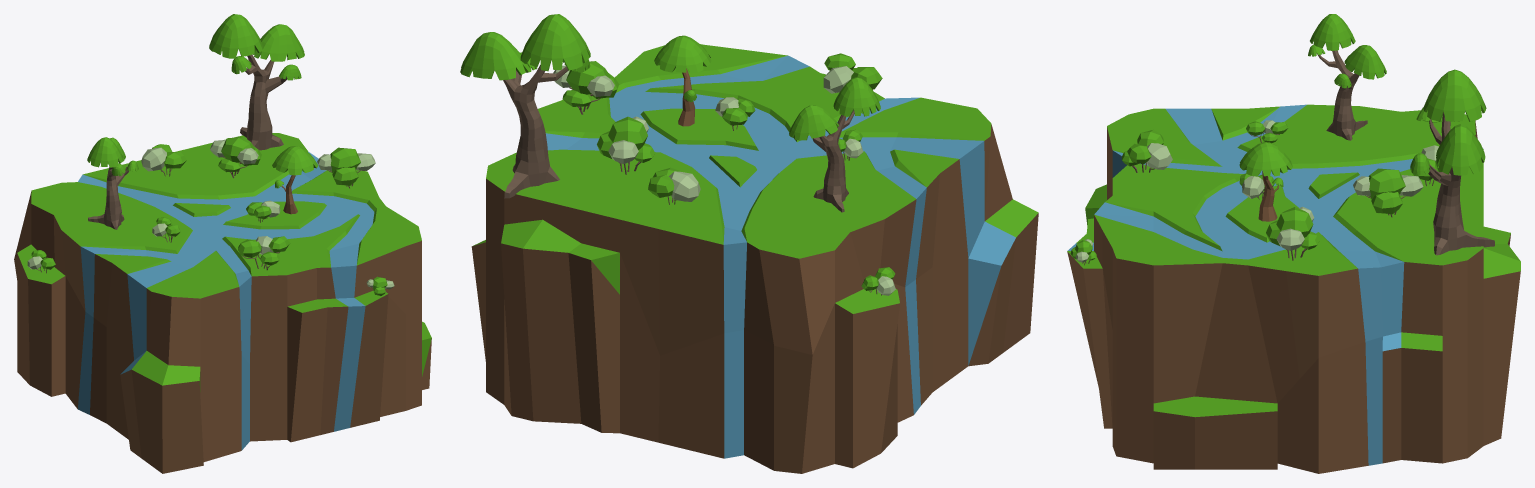
The model's file is Island_13.fbx.
3 views of the same model, side by side, from view 1: azimuth 30°, elevation 25°; view 2: azimuth 150°, elevation 25°; view 3: azimuth 270°, elevation 25° (orthographic). The views are drawn at different scales.
Parts seen in each view (by area): view 1: Island_13_Base, Island_13; view 2: Island_13_Base, Island_13; view 3: Island_13_Base, Island_13.
Part boxes in pixels (x1,y1,x2,y2): Island_13_Base: (14, 133, 431, 473); Island_13: (27, 14, 394, 295); Island_13_Base: (471, 44, 1038, 473); Island_13: (460, 14, 895, 295); Island_13_Base: (1067, 104, 1520, 473); Island_13: (1070, 14, 1494, 265).
Bounding box in the file's own units: 2375 × 2445 × 2138.
